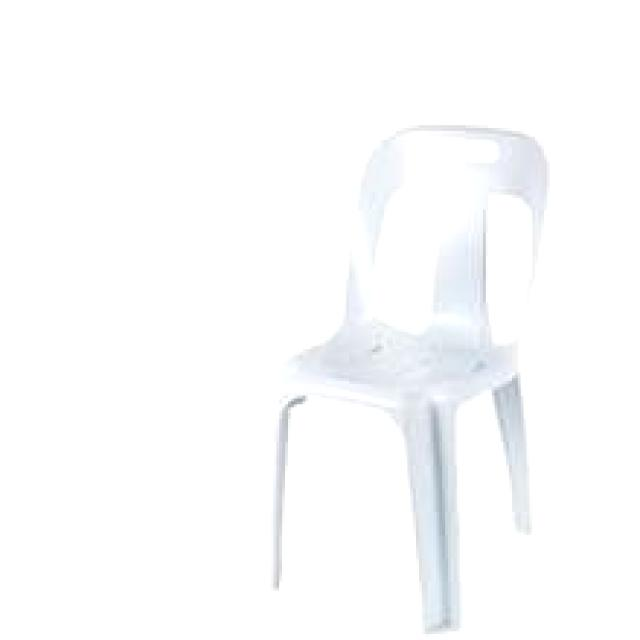Chair: (260, 114, 565, 640)
